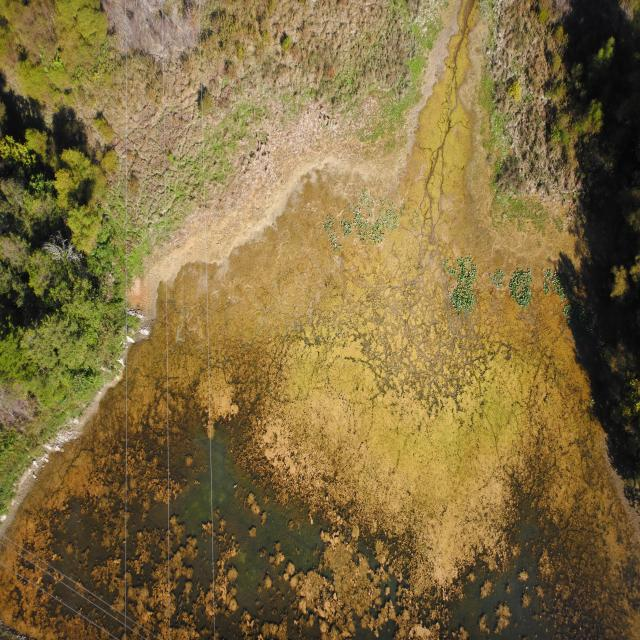Area of Interest: (9, 100, 117, 474)
